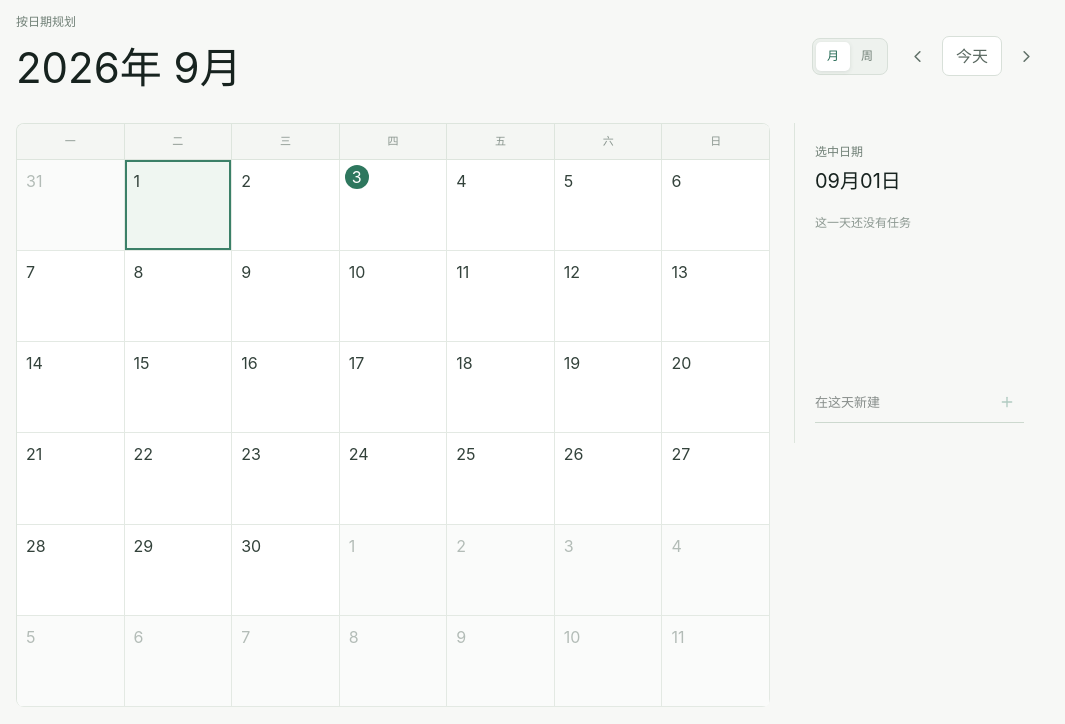
it: CalendarPage › switches between month and week views and pages one week at a time
The image size is (1065, 724).
What coordinates should you click on to do the following:
click the button named "周视图"
I would click on:
 (867, 56)
Its box is [850, 42, 884, 70].
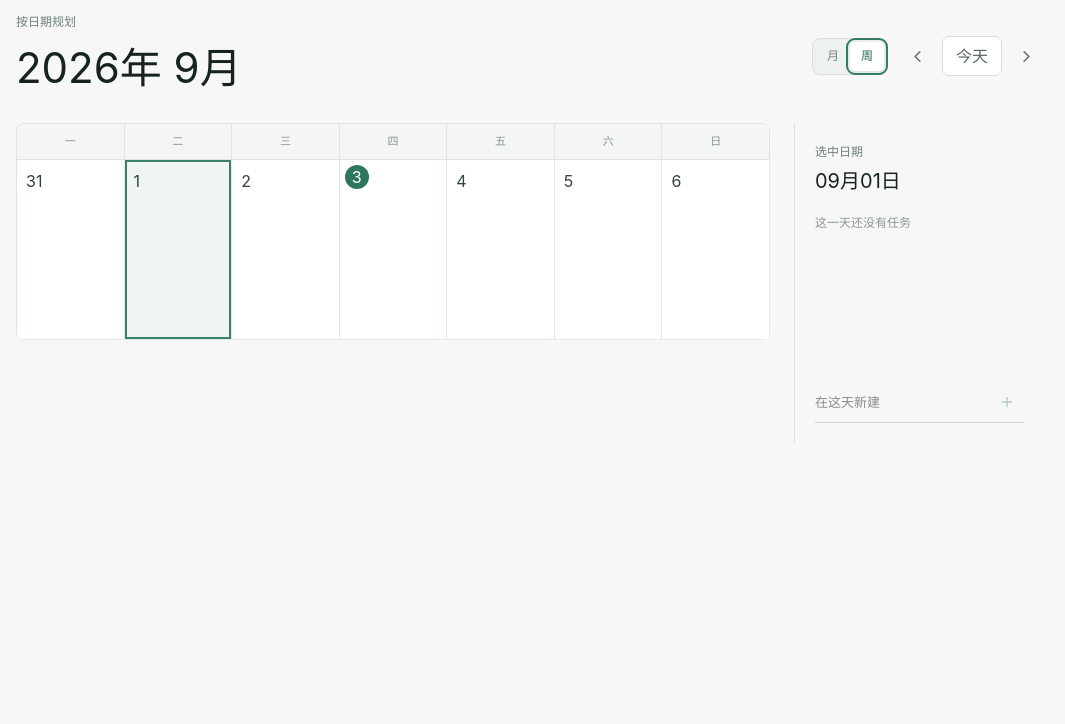
Result: the table named "2026年9月周日历" is shown at [16, 123, 770, 340]
Result: the number of buttons named "选择 2026-" is 7
What coordinates should you click on to do the following:
click the button named "下一周"
I would click on:
 (1026, 56)
Its box is [1008, 38, 1044, 74].
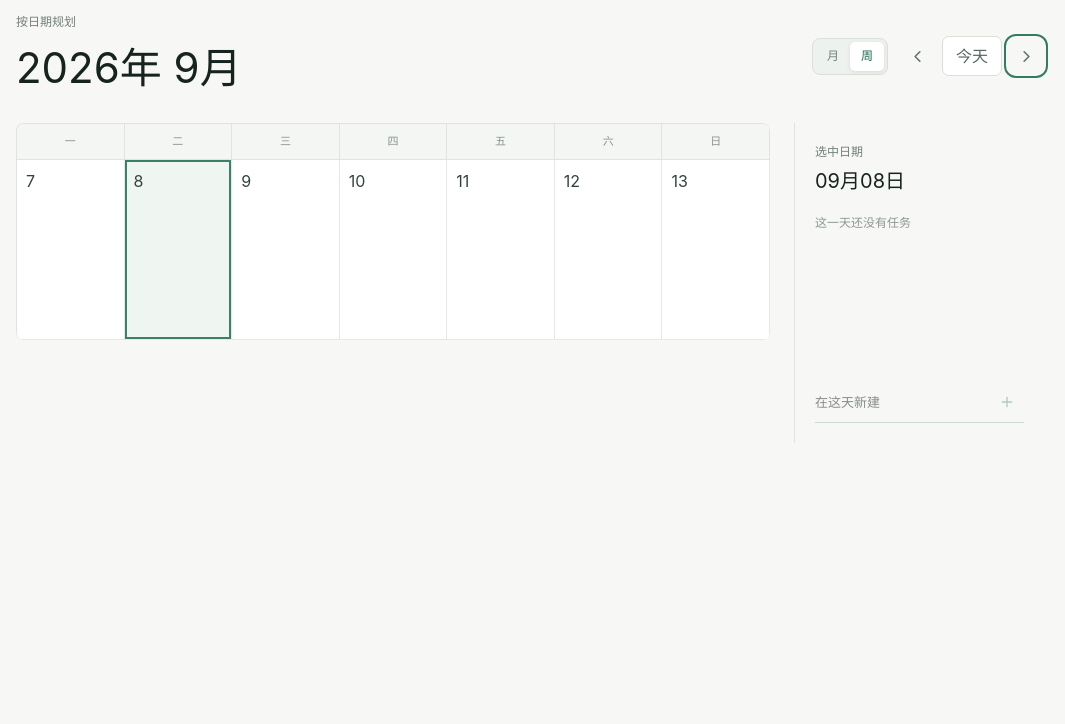
Result: the button named "选择 2026-09-08" is shown at [125, 160, 232, 340]
